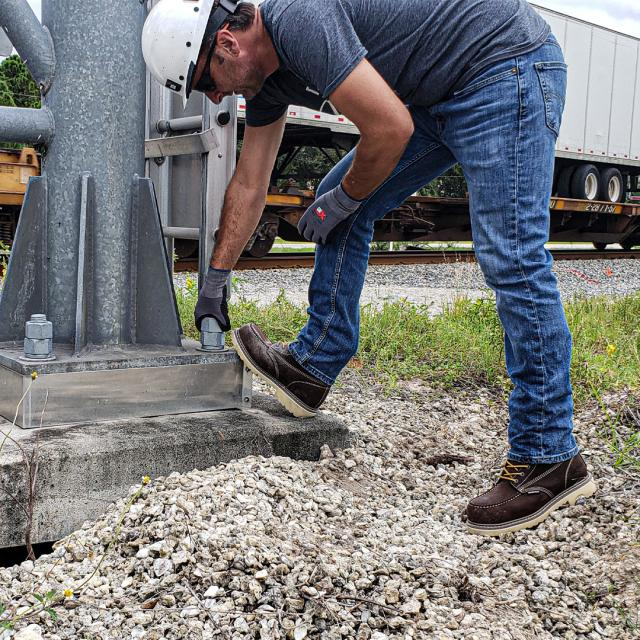Boots: (460, 439, 596, 542), (230, 318, 336, 423)
Gloves: (294, 183, 361, 255), (191, 264, 231, 332)
Hard Hat: (140, 0, 218, 112)
Safety Glasses: (194, 33, 226, 100)
